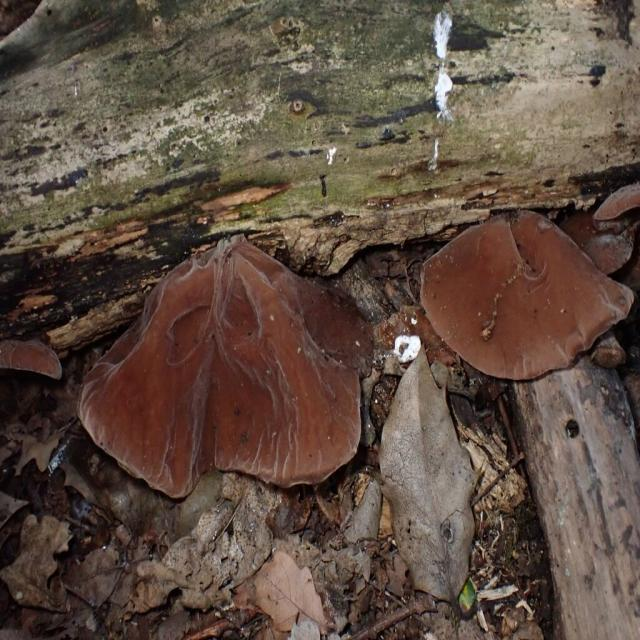Matang: (75, 227, 378, 496), (416, 206, 636, 384), (0, 337, 64, 381)
